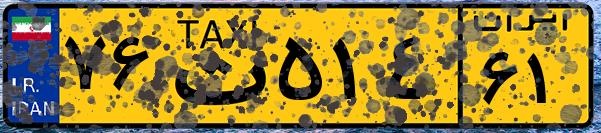1: (330, 28, 385, 110), (525, 38, 570, 115)
4: (385, 28, 445, 110)
5: (270, 28, 330, 110)
6: (475, 38, 525, 113), (110, 28, 158, 98)
7: (57, 26, 110, 100)
ت: (158, 12, 270, 120)
